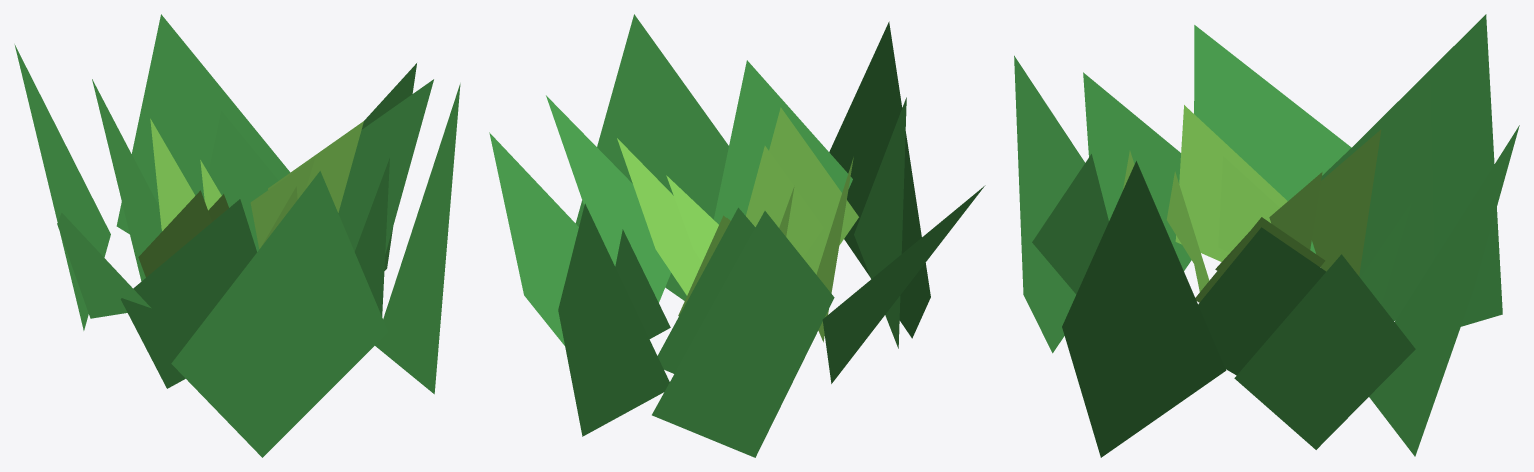
File: lettuce_stage_3.glb
3 views of the same model, side by side, from view 1: azimuth 30°, elevation 25°; view 2: azimuth 150°, elevation 25°; view 3: azimuth 270°, elevation 25° (orthographic). The views are drawn at different scales.
Visible parts, largest first — view 1: Plane.018, Plane.015, Plane.005, Plane.014, Plane.017, Plane.013, Plane.010, Plane.009, Plane.016, Plane.019, Plane.007, Plane.002 (+4 smaller); view 2: Plane.013, Plane.014, Plane.015, Plane.018, Plane.006, Plane.017, Plane.019, Plane.016, Plane.005, Plane.003, Plane.002, Plane.010 (+5 smaller); view 3: Plane.014, Plane.006, Plane.015, Plane.013, Plane.016, Plane.010, Plane.018, Plane.017, Plane.005, Plane.007, Plane.008, Plane.019 (+5 smaller).
Boxes of the visible parts, bbox=[...] form: Plane.018: bbox=[171, 171, 388, 457]; Plane.015: bbox=[116, 14, 290, 234]; Plane.005: bbox=[120, 199, 256, 388]; Plane.014: bbox=[375, 83, 460, 394]; Plane.017: bbox=[338, 79, 433, 253]; Plane.013: bbox=[14, 44, 110, 330]; Plane.010: bbox=[92, 79, 162, 281]; Plane.009: bbox=[203, 111, 278, 251]; Plane.016: bbox=[57, 213, 151, 318]; Plane.019: bbox=[355, 158, 389, 316]; Plane.007: bbox=[138, 190, 211, 277]; Plane.002: bbox=[268, 121, 363, 212]; Plane.013: bbox=[652, 211, 834, 457]; Plane.014: bbox=[575, 14, 728, 300]; Plane.015: bbox=[558, 203, 669, 436]; Plane.018: bbox=[829, 21, 930, 338]; Plane.006: bbox=[489, 132, 578, 345]; Plane.017: bbox=[546, 95, 671, 302]; Plane.019: bbox=[713, 60, 852, 224]; Plane.016: bbox=[822, 185, 985, 383]; Plane.005: bbox=[854, 97, 906, 348]; Plane.003: bbox=[769, 107, 858, 274]; Plane.002: bbox=[617, 138, 701, 295]; Plane.010: bbox=[657, 207, 755, 373]; Plane.014: bbox=[1062, 161, 1226, 457]; Plane.006: bbox=[1234, 254, 1415, 449]; Plane.015: bbox=[1369, 125, 1519, 456]; Plane.013: bbox=[1359, 14, 1502, 326]; Plane.016: bbox=[1194, 25, 1351, 253]; Plane.010: bbox=[1321, 73, 1434, 320]; Plane.018: bbox=[1014, 55, 1084, 353]; Plane.017: bbox=[1198, 227, 1326, 375]; Plane.005: bbox=[1083, 72, 1191, 270]; Plane.007: bbox=[1175, 105, 1287, 261]; Plane.008: bbox=[1312, 129, 1381, 276]; Plane.019: bbox=[1032, 154, 1108, 294].
Size of the model in its own units: 0.8261 by 0.5716 by 0.7773.
